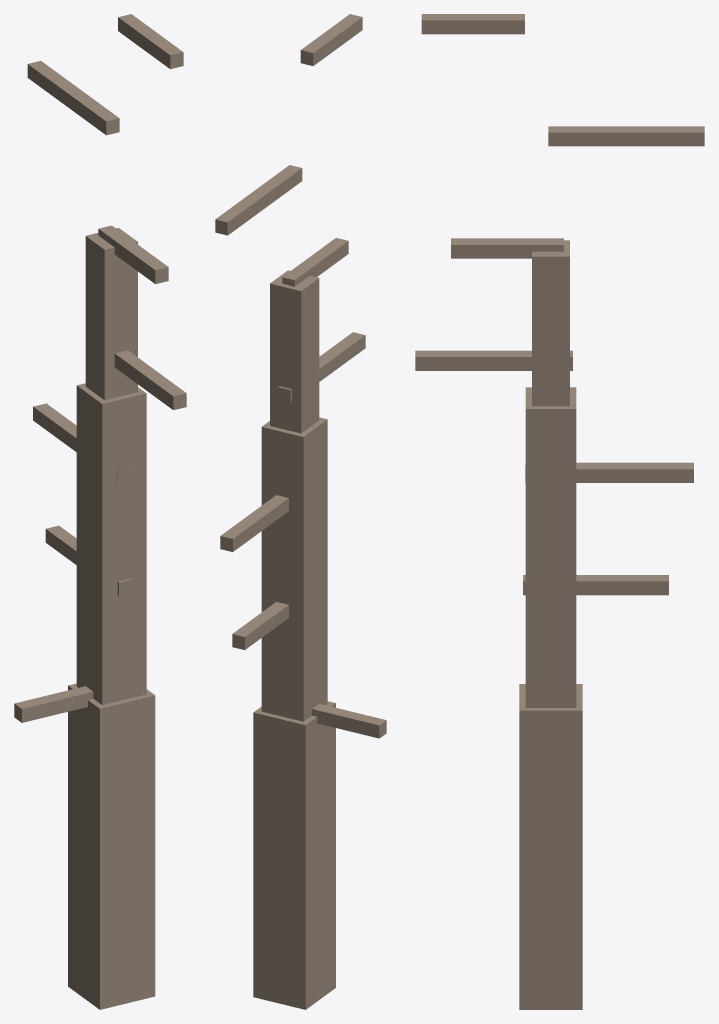
The model's file is propvar_dead_m.glb.
3 views of the same model, side by side, from view 1: azimuth 30°, elevation 25°; view 2: azimuth 150°, elevation 25°; view 3: azimuth 270°, elevation 25° (orthographic). The views are drawn at different scales.
Visible parts, largest first — view 1: PropVar_Dead_M; view 2: PropVar_Dead_M; view 3: PropVar_Dead_M.
Part boxes in pixels (x1,y1,x2,y2): PropVar_Dead_M: (14, 14, 186, 1009); PropVar_Dead_M: (215, 14, 386, 1009); PropVar_Dead_M: (415, 14, 704, 1009).
Bounding box in the file's own units: 1.1 × 8.51 × 2.28.
